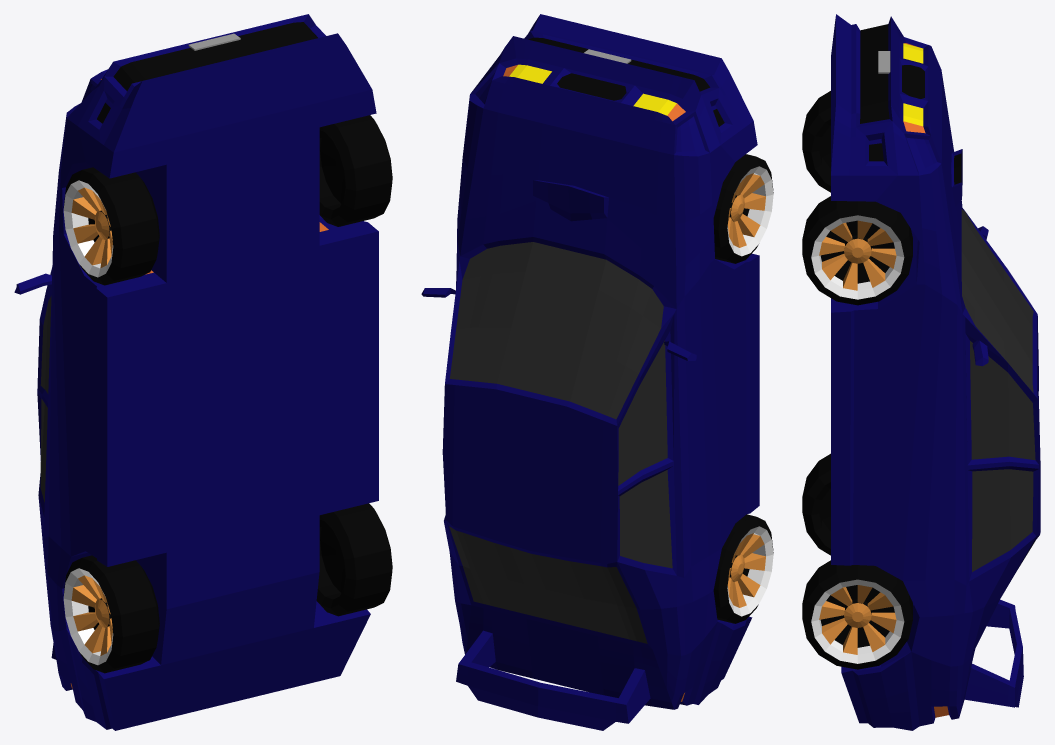
The model's file is Субару 2.1.fbx.
3 renders of one model, left to right at view 1: azimuth 30°, elevation 25°; view 2: azimuth 150°, elevation 25°; view 3: azimuth 270°, elevation 25°, orthographic. The views are drawn at different scales.
Visible parts, largest first — view 1: Cube, FR, RR, RL, FL; view 2: Cube, FR, RR; view 3: Cube, FL, RL, RR, FR.
Part boxes in pixels (box(x1,y1,x2,y2)): Cube: box(14, 14, 378, 730); FR: box(63, 167, 159, 285); RR: box(63, 555, 159, 673); RL: box(316, 503, 392, 616); FL: box(319, 115, 392, 226); Cube: box(421, 14, 759, 730); FR: box(713, 154, 773, 263); RR: box(713, 514, 773, 623); Cube: box(831, 14, 1040, 730); FL: box(802, 196, 912, 305); RL: box(802, 560, 912, 669); RR: box(802, 453, 830, 555); FR: box(802, 91, 830, 192).
Bounding box in the file's own units: 413 × 885 × 308.
